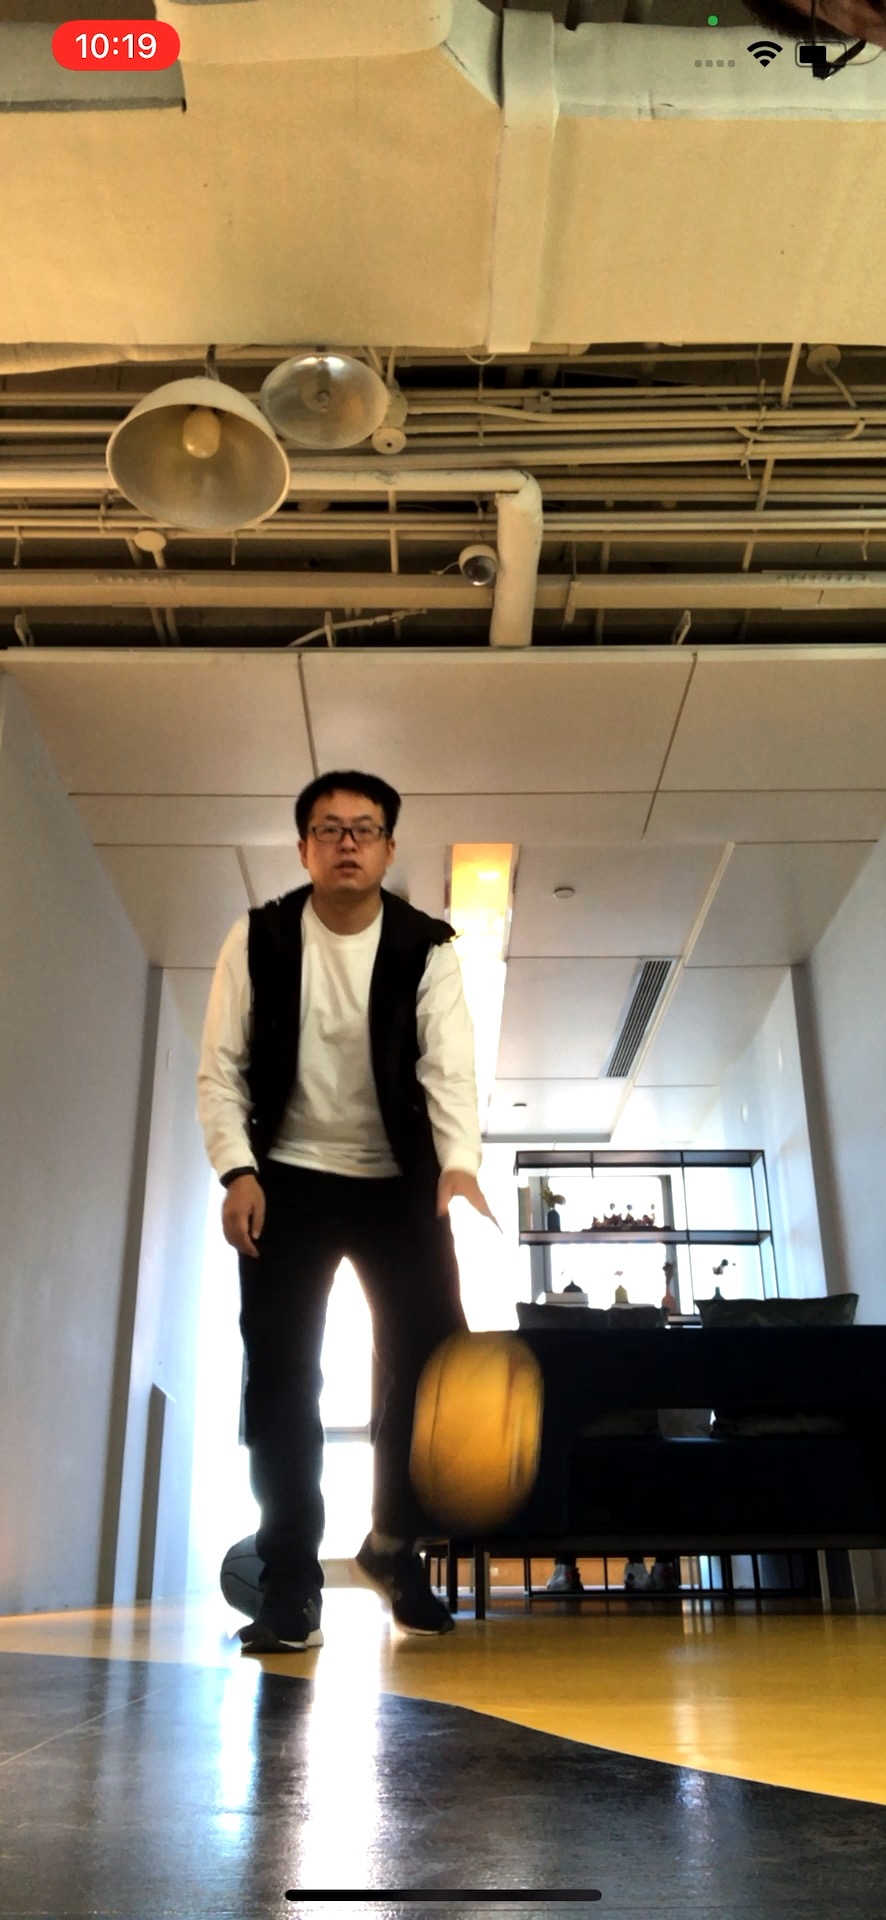ball: (414, 1333, 551, 1520)
